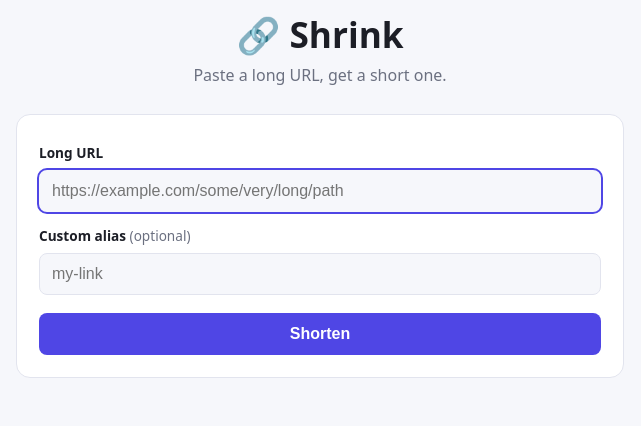
Scenario: App › shows a friendly message when the backend is unreachable
In the field labelled "Long URL": (320, 191) x1=39 y1=170 x2=601 y2=212, type "https://example.com"
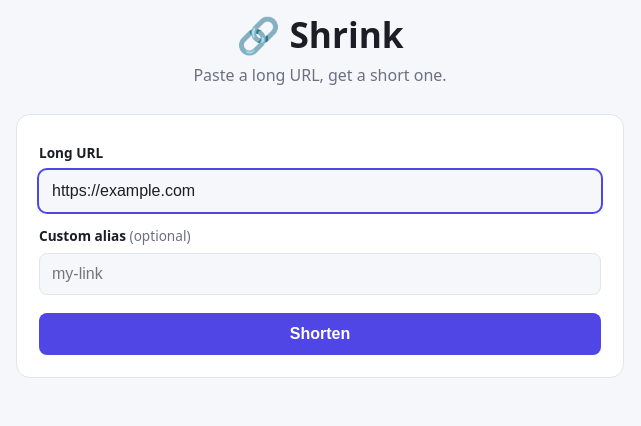
Click the button "Shorten": (320, 334) x1=39 y1=313 x2=601 y2=355
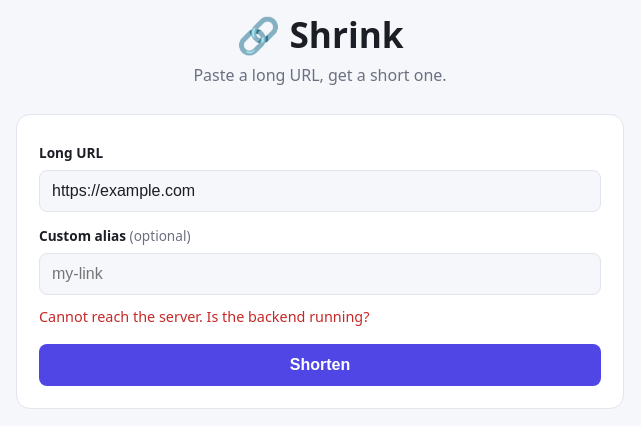
Now the message shows "Cannot reach the server", box x1=39 y1=307 x2=370 y2=326
